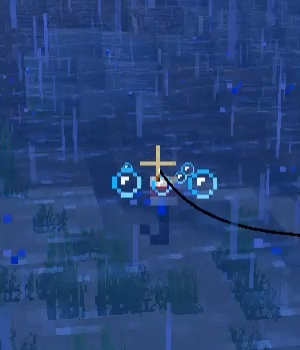down: (141, 172, 179, 249)
